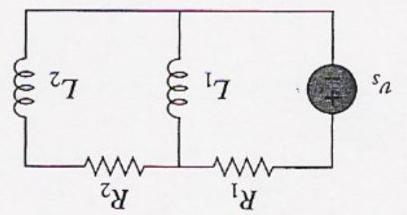inductor: (157, 45, 189, 124), (6, 45, 35, 122)
